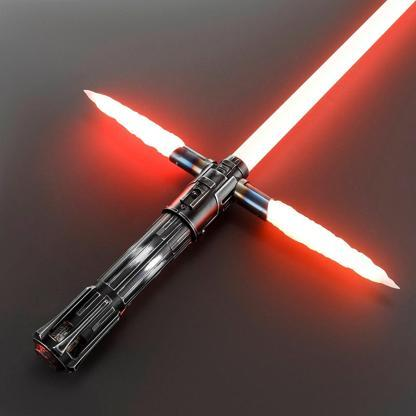sith_lightsaber: (24, 0, 416, 388)
